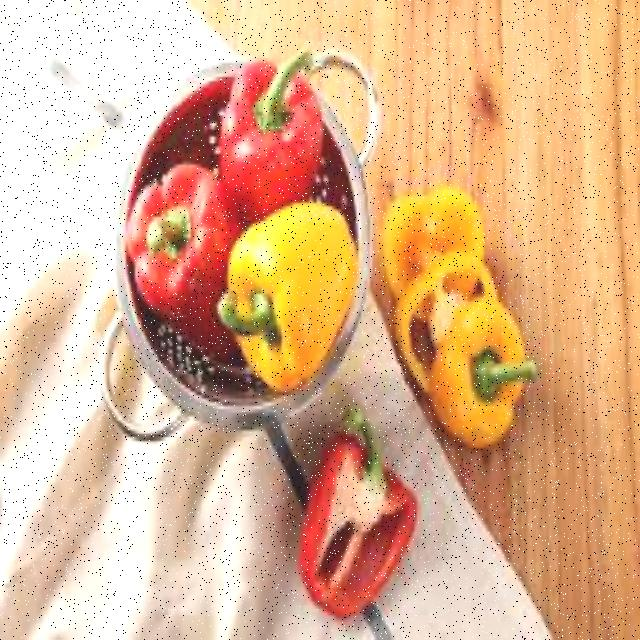Bell Pepper: (202, 188, 364, 414), (288, 408, 434, 622)
